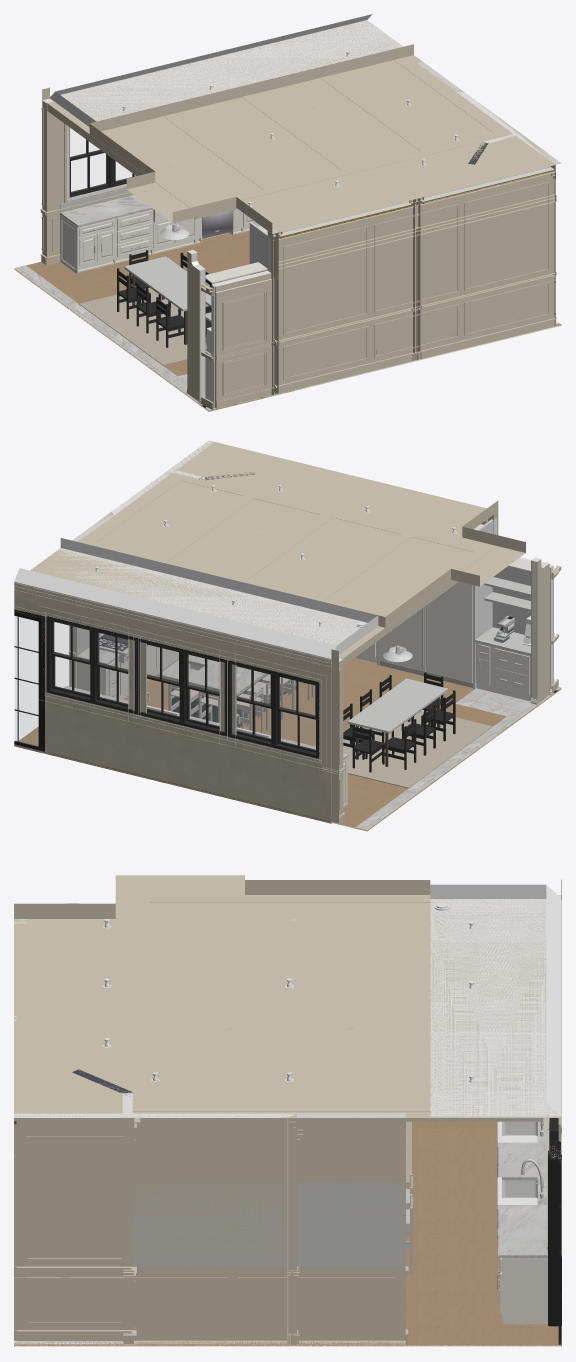
The model's file is kitchen-d200b2fbe49a.glb.
The picture shows the model from 3 angles, top to bottom: view 1: azimuth 30°, elevation 25°; view 2: azimuth 150°, elevation 25°; view 3: azimuth 270°, elevation 25°; orthographic projection. The views are drawn at different scales.
Visible parts, largest first — view 1: kitchen-2575515a05775d9e, kitchen-19647d6da46c2b80, kitchen-9a0e9ee9b2a451d7, kitchen-49bdd6945a2d0056, kitchen-00be813e6aece0ee, kitchen-3b0077416469e01b, kitchen-7dfe2ffe68edc988, kitchen-75351331e76db762, kitchen-09be6e6cfc36f29e, kitchen-bfb9fa537cd11d1d, kitchen-7b4bbba8a9d390c7, kitchen-5f1778ec544bdf42 (+29 smaller); view 2: kitchen-2575515a05775d9e, kitchen-bfb9fa537cd11d1d, kitchen-49bdd6945a2d0056, kitchen-3b0077416469e01b, kitchen-9a0e9ee9b2a451d7, kitchen-09be6e6cfc36f29e, kitchen-7dfe2ffe68edc988, kitchen-9b21a9be80c3a49b, kitchen-465517ab3404164a, kitchen-75351331e76db762, kitchen-576146411195f884, kitchen-32fc8eea516b7cb3 (+29 smaller); view 3: kitchen-2575515a05775d9e, kitchen-5b6bbac285e58726, kitchen-9a0e9ee9b2a451d7, kitchen-3b0077416469e01b, kitchen-49bdd6945a2d0056, kitchen-4554d8252f00ac44, kitchen-6a1144f4e43410bb, kitchen-99336d62df756830, kitchen-515b4f710c0d82a8, kitchen-4b4793188d7158f3, kitchen-47c334bbf0372127, kitchen-e54d813e60c9e7c4 (+21 smaller).
Part boxes in pixels (x1,y1,x2,y2): kitchen-2575515a05775d9e: [89, 44, 560, 233]; kitchen-19647d6da46c2b80: [278, 167, 554, 385]; kitchen-9a0e9ee9b2a451d7: [50, 20, 403, 126]; kitchen-49bdd6945a2d0056: [50, 14, 402, 126]; kitchen-00be813e6aece0ee: [215, 279, 271, 408]; kitchen-3b0077416469e01b: [14, 231, 561, 411]; kitchen-7dfe2ffe68edc988: [117, 250, 221, 347]; kitchen-75351331e76db762: [79, 287, 208, 365]; kitchen-09be6e6cfc36f29e: [67, 126, 135, 201]; kitchen-bfb9fa537cd11d1d: [42, 98, 63, 256]; kitchen-7b4bbba8a9d390c7: [277, 318, 556, 393]; kitchen-5f1778ec544bdf42: [277, 194, 556, 269]; kitchen-2575515a05775d9e: [77, 441, 525, 627]; kitchen-bfb9fa537cd11d1d: [14, 583, 343, 821]; kitchen-49bdd6945a2d0056: [14, 538, 378, 659]; kitchen-3b0077416469e01b: [14, 658, 561, 831]; kitchen-9a0e9ee9b2a451d7: [14, 548, 378, 659]; kitchen-09be6e6cfc36f29e: [228, 660, 319, 758]; kitchen-7dfe2ffe68edc988: [343, 672, 455, 772]; kitchen-9b21a9be80c3a49b: [46, 616, 137, 714]; kitchen-465517ab3404164a: [136, 637, 227, 736]; kitchen-75351331e76db762: [343, 709, 492, 788]; kitchen-576146411195f884: [14, 609, 44, 751]; kitchen-32fc8eea516b7cb3: [426, 581, 472, 683]; kitchen-2575515a05775d9e: [14, 875, 430, 1117]; kitchen-5b6bbac285e58726: [134, 1113, 296, 1344]; kitchen-9a0e9ee9b2a451d7: [430, 899, 560, 1117]; kitchen-3b0077416469e01b: [14, 1121, 561, 1346]; kitchen-49bdd6945a2d0056: [430, 884, 561, 1116]; kitchen-4554d8252f00ac44: [133, 1182, 405, 1270]; kitchen-6a1144f4e43410bb: [14, 1113, 134, 1344]; kitchen-99336d62df756830: [297, 1113, 405, 1344]; kitchen-515b4f710c0d82a8: [27, 1121, 122, 1329]; kitchen-4b4793188d7158f3: [498, 1121, 547, 1257]; kitchen-47c334bbf0372127: [132, 895, 149, 1111]; kitchen-e54d813e60c9e7c4: [14, 1124, 405, 1133].
Size of the model in its own units: 6.87 by 3.24 by 6.56.
53 materials, 10 textured.
